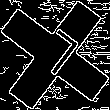L_SW: (27, 25, 83, 85)
